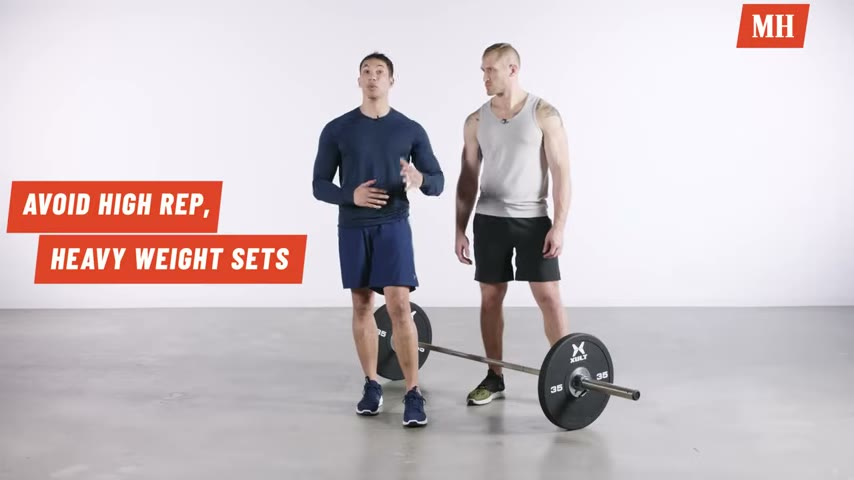barbell_plate_side: (579, 331, 643, 442)
